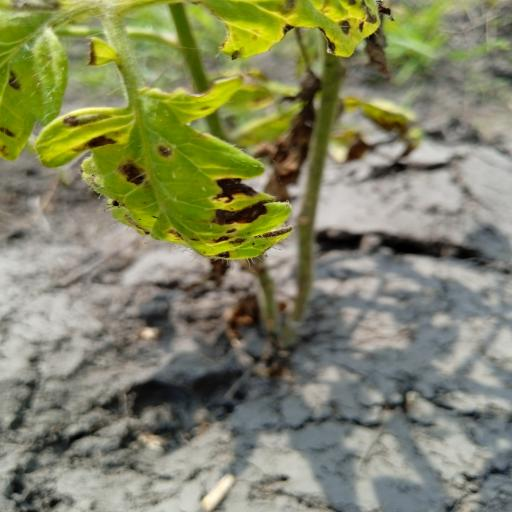Tomato_Brown_Spots: (30, 74, 296, 263)
